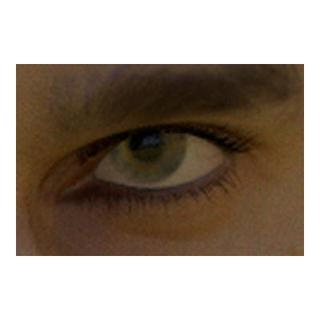pupil: (130, 128, 162, 160)
